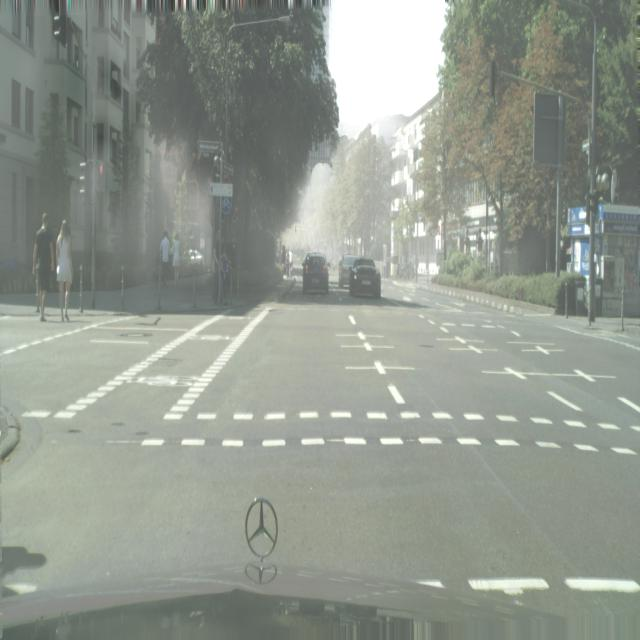person: (32, 212, 55, 321), (55, 219, 73, 322), (159, 231, 171, 288), (172, 230, 181, 289)
truck: (349, 258, 382, 298), (302, 252, 329, 295), (338, 254, 359, 288)
